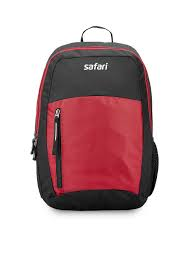backpack: (30, 25, 158, 210)
